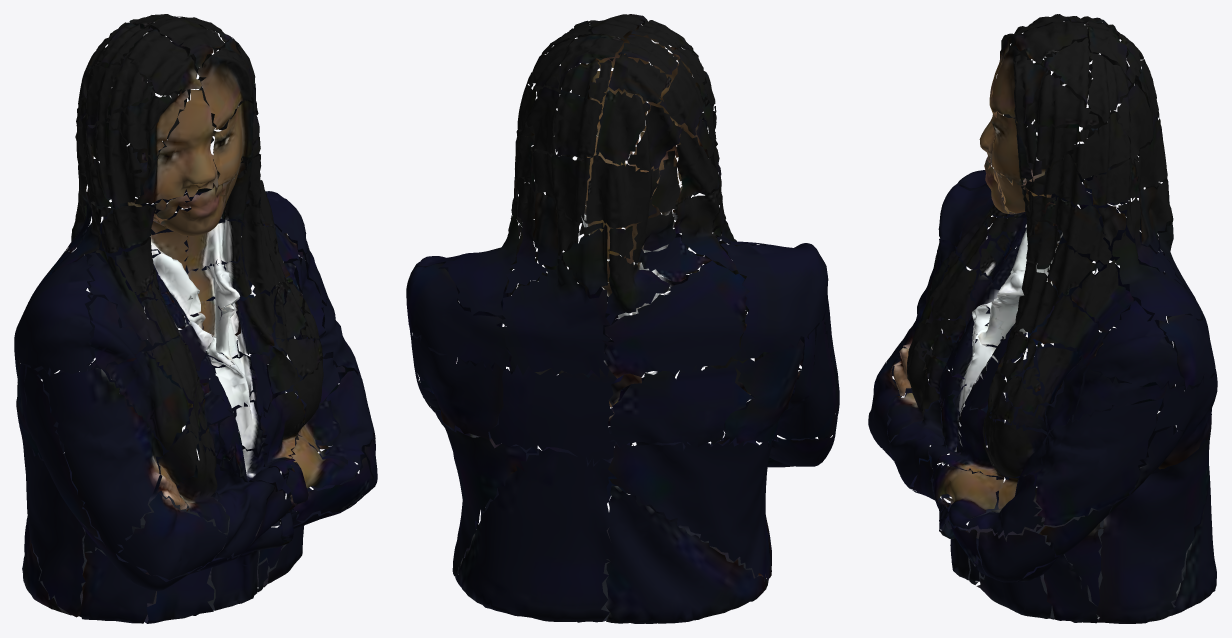
The model's file is Confident_Leadership_Optimized (1).glb.
3 views of the same model, side by side, from view 1: azimuth 30°, elevation 25°; view 2: azimuth 150°, elevation 25°; view 3: azimuth 270°, elevation 25° (orthographic).
Size of the model in its own units: 1.29 by 1.9 by 1.12.
1 material, 1 textured.
